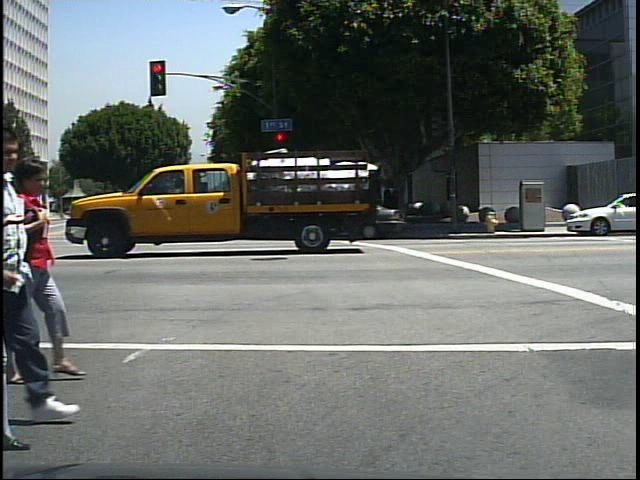person: (11, 155, 74, 386)
